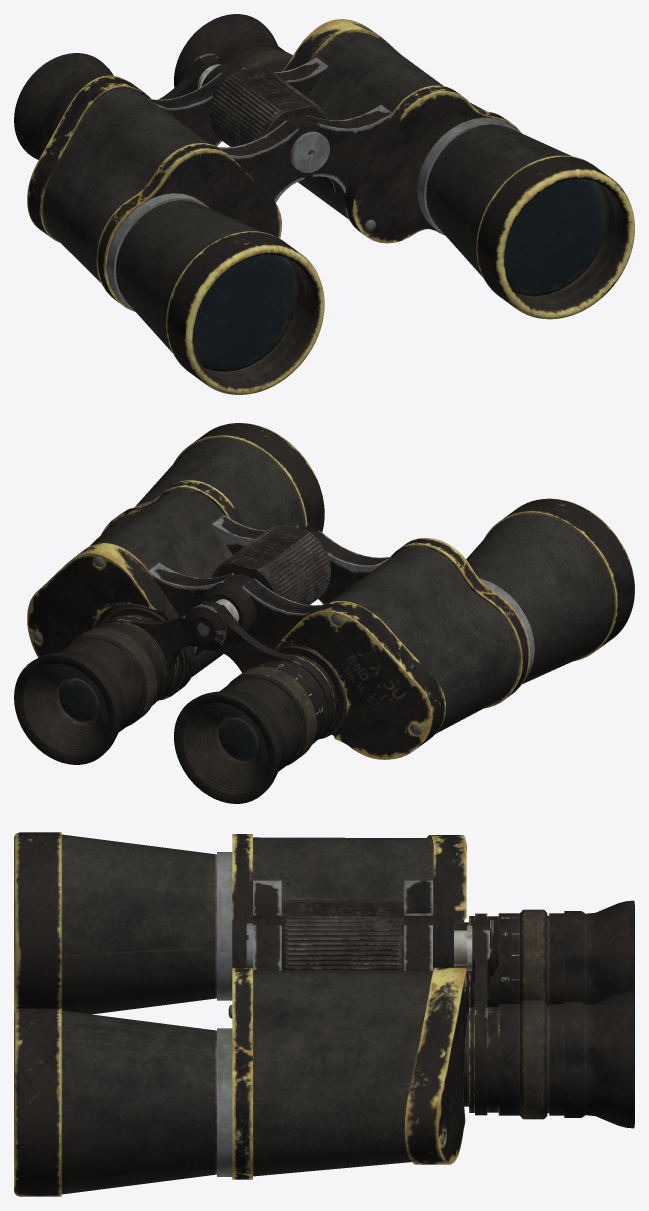
The model's file is vintage_binocular_4k.gltf.
The picture shows the model from 3 angles, top to bottom: view 1: azimuth 30°, elevation 25°; view 2: azimuth 150°, elevation 25°; view 3: azimuth 270°, elevation 25°; orthographic projection. The views are drawn at different scales.
Parts seen in each view (by area): view 1: vintage_binocular_right_prism, vintage_binocular_left_prism, vintage_binocular_right_lens, vintage_binocular_focus, vintage_binocular_left_lens, vintage_binocular_middle; view 2: vintage_binocular_right_prism, vintage_binocular_left_prism, vintage_binocular_left_lens, vintage_binocular_right_lens, vintage_binocular_focus, vintage_binocular_diopter, vintage_binocular_eye_relief, vintage_binocular_middle; view 3: vintage_binocular_left_prism, vintage_binocular_right_prism, vintage_binocular_left_lens, vintage_binocular_right_lens, vintage_binocular_focus, vintage_binocular_diopter, vintage_binocular_middle, vintage_binocular_eye_relief.
Boxes of the visible parts, x1=… form: vintage_binocular_right_prism: x1=27, y1=73, x2=324, y2=394; vintage_binocular_left_prism: x1=223, y1=19, x2=634, y2=319; vintage_binocular_right_lens: x1=14, y1=53, x2=224, y2=159; vintage_binocular_focus: x1=209, y1=67, x2=328, y2=146; vintage_binocular_left_lens: x1=174, y1=14, x2=292, y2=87; vintage_binocular_middle: x1=201, y1=63, x2=329, y2=172; vintage_binocular_right_prism: x1=228, y1=498, x2=634, y2=759; vintage_binocular_left_prism: x1=27, y1=423, x2=324, y2=700; vintage_binocular_left_lens: x1=14, y1=600, x2=217, y2=764; vintage_binocular_right_lens: x1=174, y1=601, x2=336, y2=803; vintage_binocular_focus: x1=211, y1=525, x2=330, y2=604; vintage_binocular_diopter: x1=227, y1=661, x2=324, y2=765; vintage_binocular_eye_relief: x1=184, y1=599, x2=239, y2=650; vintage_binocular_middle: x1=200, y1=582, x2=256, y2=633; vintage_binocular_left_prism: x1=14, y1=915, x2=466, y2=1196; vintage_binocular_right_prism: x1=14, y1=832, x2=466, y2=1018; vintage_binocular_left_lens: x1=463, y1=923, x2=634, y2=1128; vintage_binocular_right_lens: x1=456, y1=900, x2=634, y2=1012; vintage_binocular_focus: x1=281, y1=898, x2=404, y2=970; vintage_binocular_diopter: x1=498, y1=909, x2=547, y2=1003; vintage_binocular_middle: x1=246, y1=914, x2=453, y2=970; vintage_binocular_eye_relief: x1=454, y1=920, x2=498, y2=976.
Bounding box in the file's own units: 0.194 × 0.0684 × 0.1992.
1 material, 1 textured.
